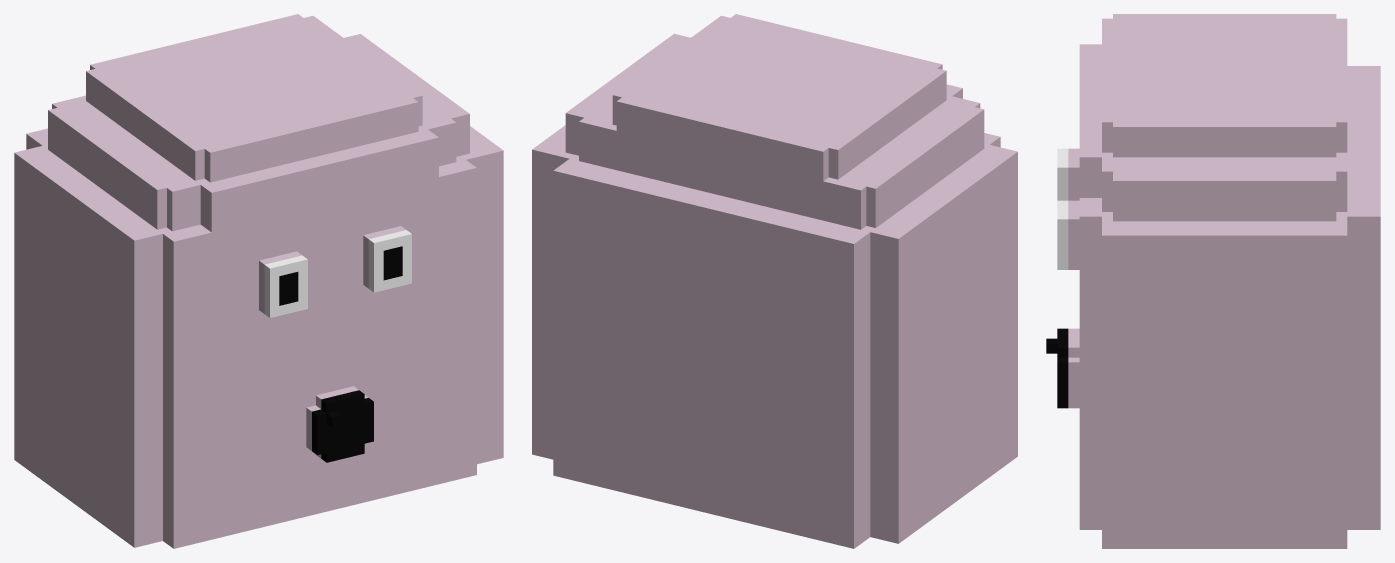
File: fantasmas Grande.obj
3 renders of one model, left to right at view 1: azimuth 30°, elevation 25°; view 2: azimuth 150°, elevation 25°; view 3: azimuth 270°, elevation 25°, orthographic. The views are drawn at different scales.
Size of the model in its own units: 3.9 by 3.8 by 3.
Materials: 1 (1 with a texture image).
